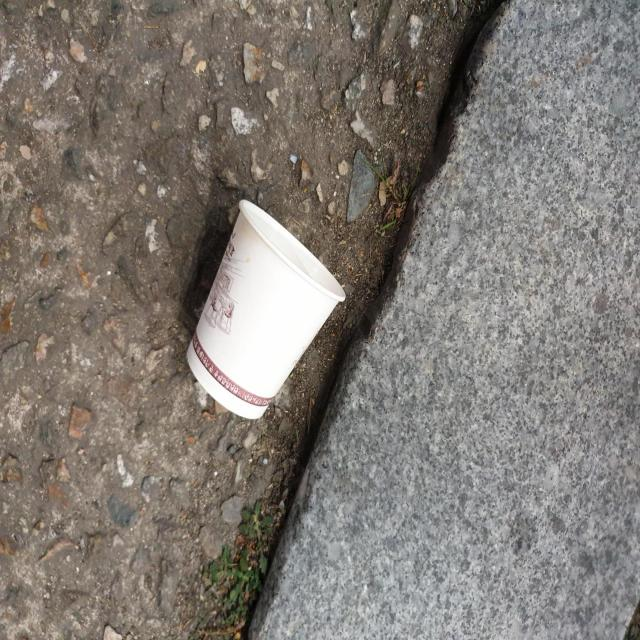paperpack: (187, 199, 345, 419)
